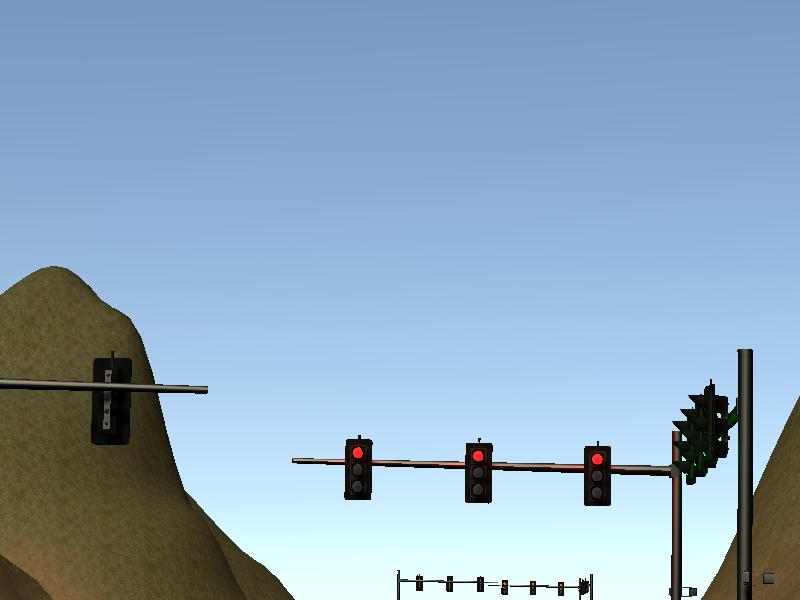Red: (345, 437, 373, 499), (582, 447, 610, 506), (464, 444, 491, 504)
